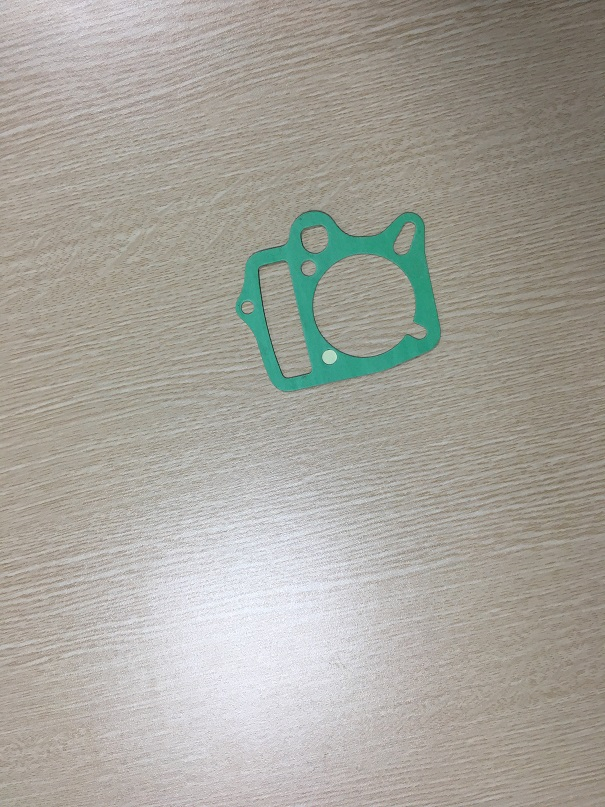type4: (229, 194, 449, 396)
